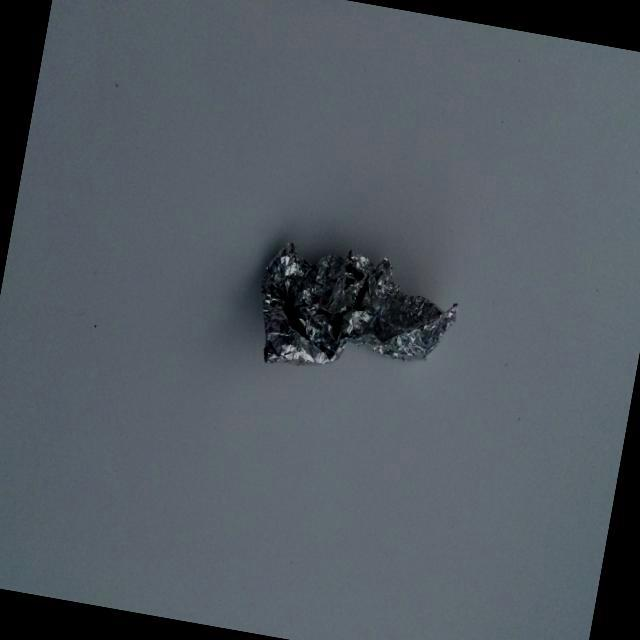metal: (217, 220, 472, 404)
